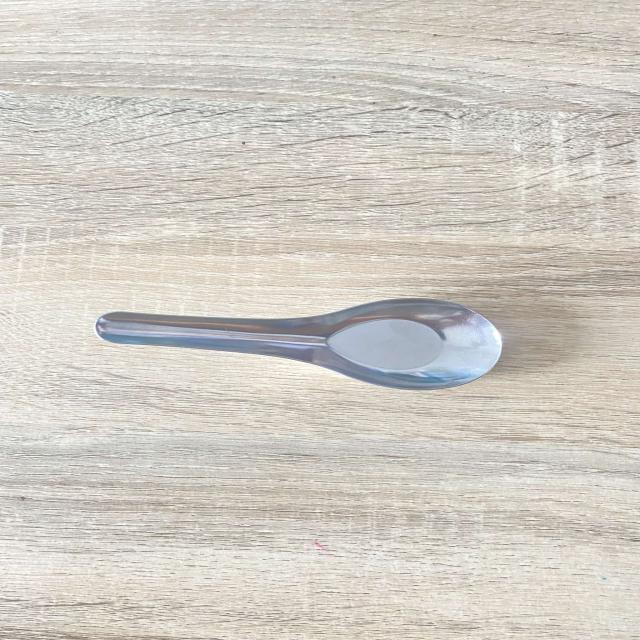spoon: (92, 291, 521, 399)
